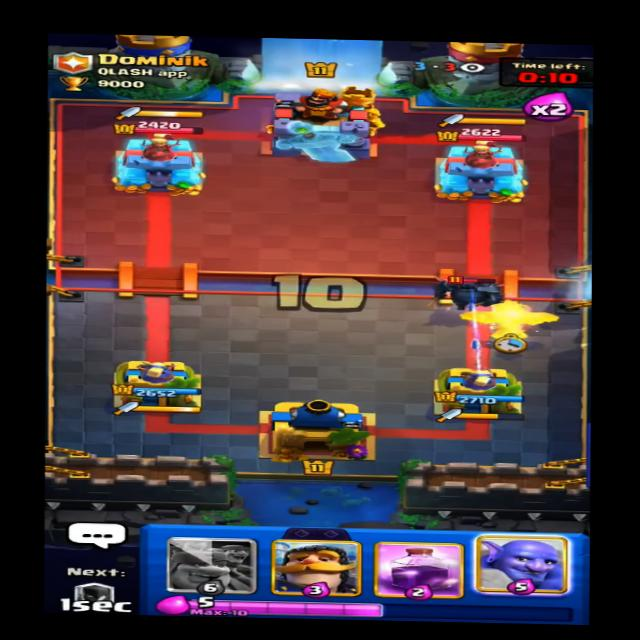pekka: (429, 270, 513, 309)
